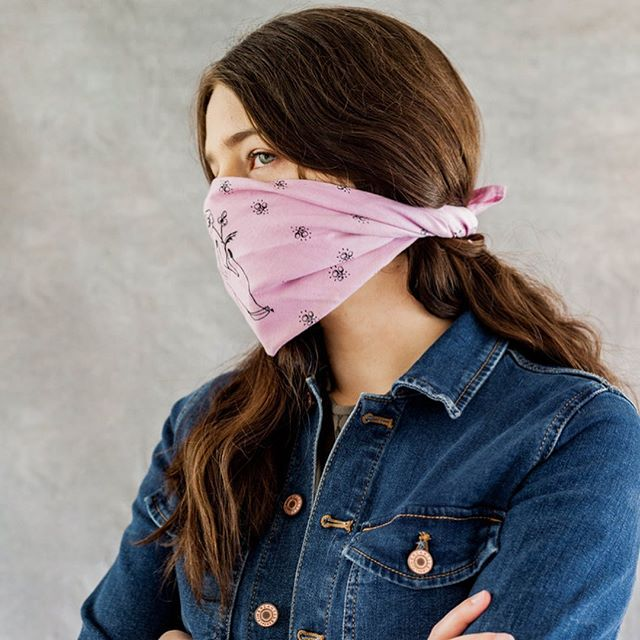homemade: (194, 177, 412, 342)
